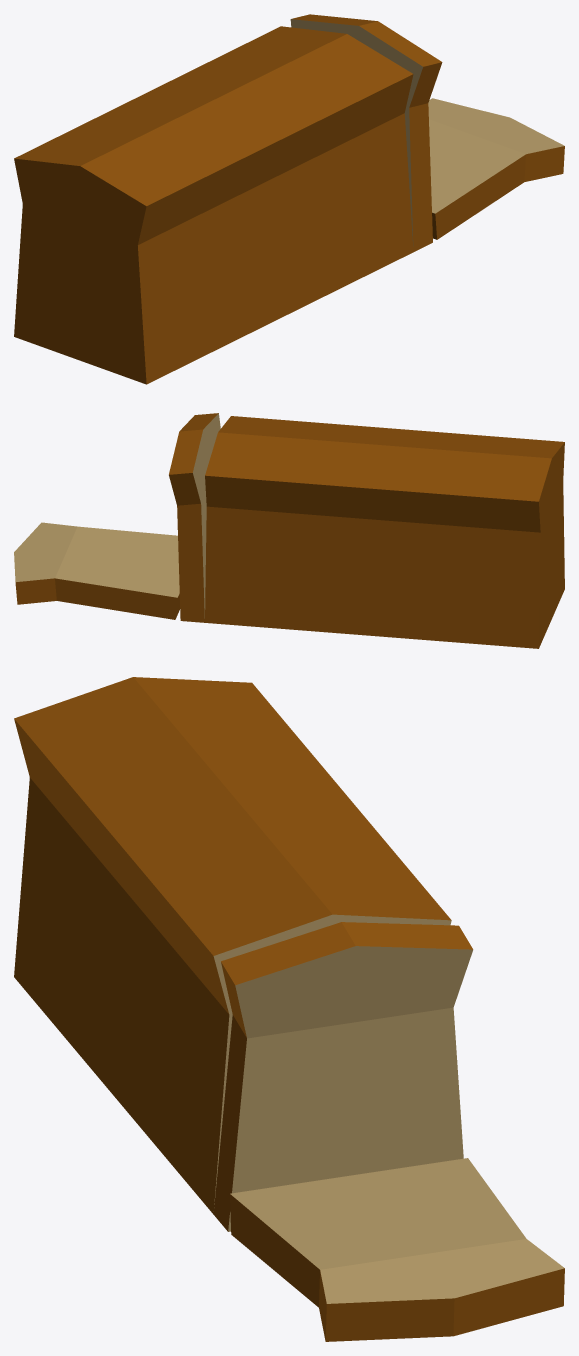
The model's file is Bread.fbx.
The picture shows the model from 3 angles, top to bottom: view 1: azimuth 30°, elevation 25°; view 2: azimuth 150°, elevation 25°; view 3: azimuth 270°, elevation 25°; orthographic projection. The views are drawn at different scales.
Visible parts, largest first — view 1: Loaf.001; view 2: Loaf.001; view 3: Loaf.001.
Part boxes in pixels (x1,y1,x2,y2): Loaf.001: [14, 14, 564, 384]; Loaf.001: [14, 413, 564, 648]; Loaf.001: [14, 677, 564, 1341].
Size of the model in its own units: 43.76 by 14.26 by 24.97.
